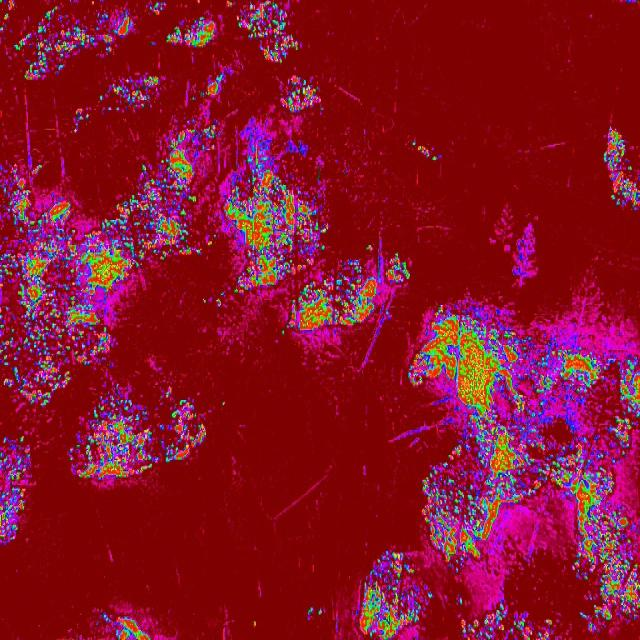fire: (409, 304, 640, 568), (224, 170, 412, 336), (0, 163, 69, 412), (69, 393, 207, 485), (0, 0, 133, 79), (118, 189, 204, 281), (68, 225, 118, 367), (356, 546, 422, 640), (137, 122, 223, 188), (573, 568, 640, 634), (238, 0, 300, 64), (0, 432, 31, 544), (602, 128, 640, 210), (456, 614, 554, 640), (99, 76, 160, 112), (277, 75, 326, 116), (238, 134, 282, 170), (98, 611, 152, 640), (166, 18, 218, 48), (191, 69, 225, 102), (410, 139, 440, 162), (71, 108, 90, 132), (146, 0, 168, 16), (306, 606, 324, 618), (205, 232, 218, 246), (100, 215, 116, 225), (494, 603, 509, 613), (216, 292, 223, 312), (250, 620, 259, 629), (200, 297, 208, 307), (456, 596, 465, 604), (452, 567, 462, 574), (220, 400, 227, 409), (227, 0, 234, 8), (427, 590, 432, 601)
